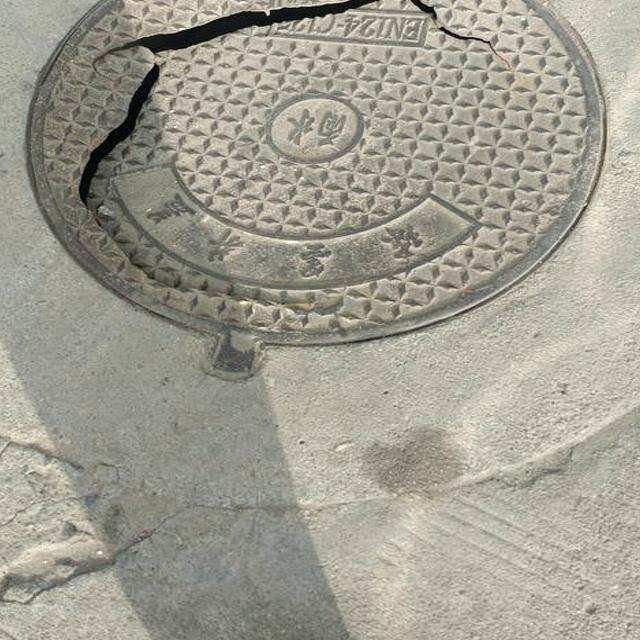broke: (0, 0, 640, 456)
